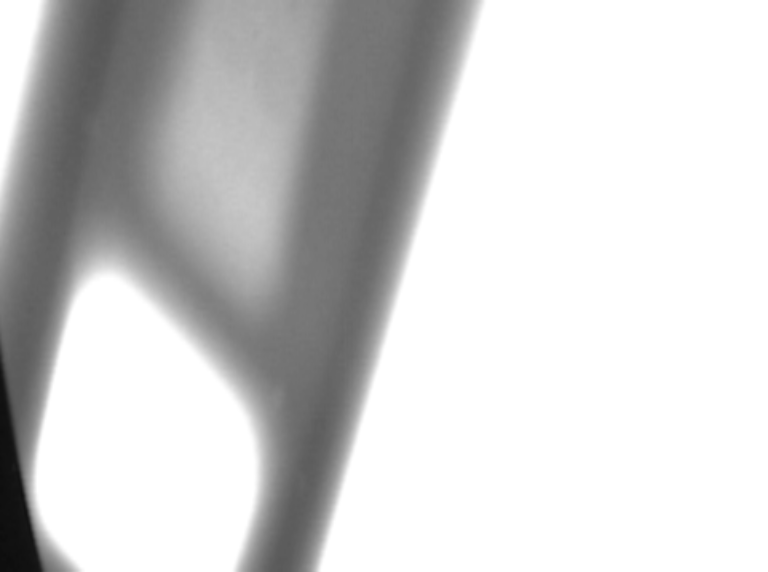defect: (89, 108, 110, 157)
